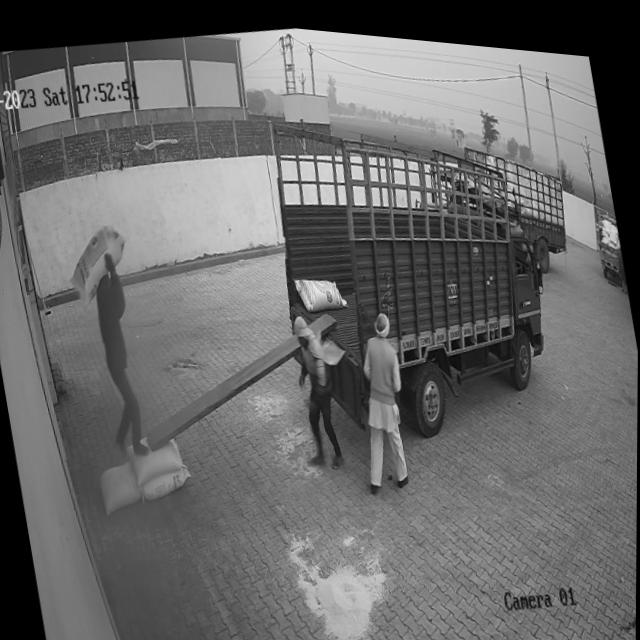sack: (61, 218, 136, 310), (129, 430, 185, 484), (96, 456, 143, 515), (293, 263, 348, 311), (139, 459, 194, 501)
